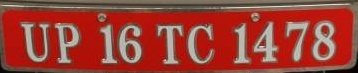character: (52, 20, 81, 64), (20, 20, 49, 63), (187, 22, 214, 65), (251, 20, 278, 62), (155, 23, 182, 64), (285, 19, 310, 62), (117, 23, 142, 63), (311, 20, 335, 61), (97, 22, 117, 64), (232, 21, 250, 64)
